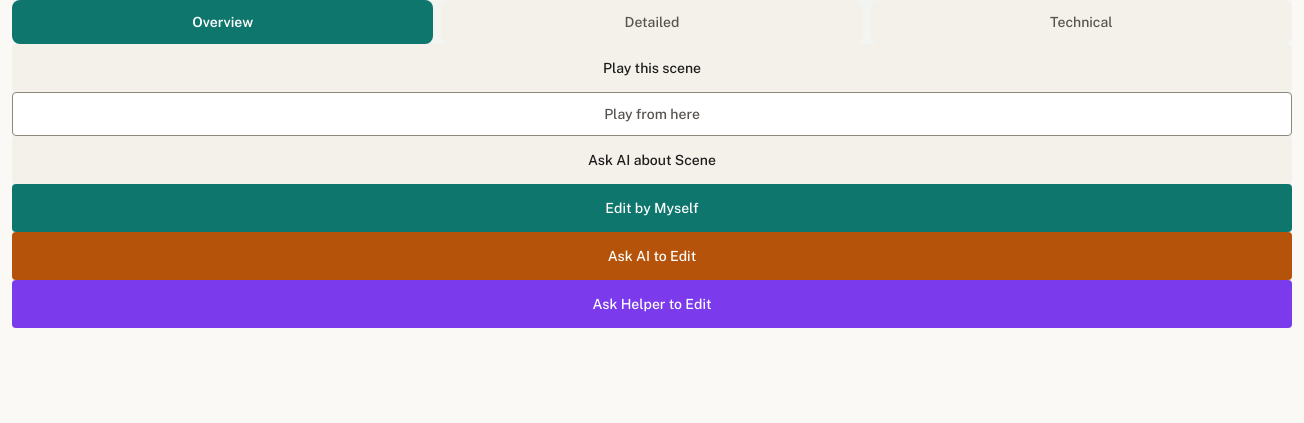
Test: SceneActions — voice input present in every composer › the Ask-AI-to-Edit composer renders a mic (voice input) button
Click the button "Ask AI to Edit" at (652, 256), box [12,232,1292,280]
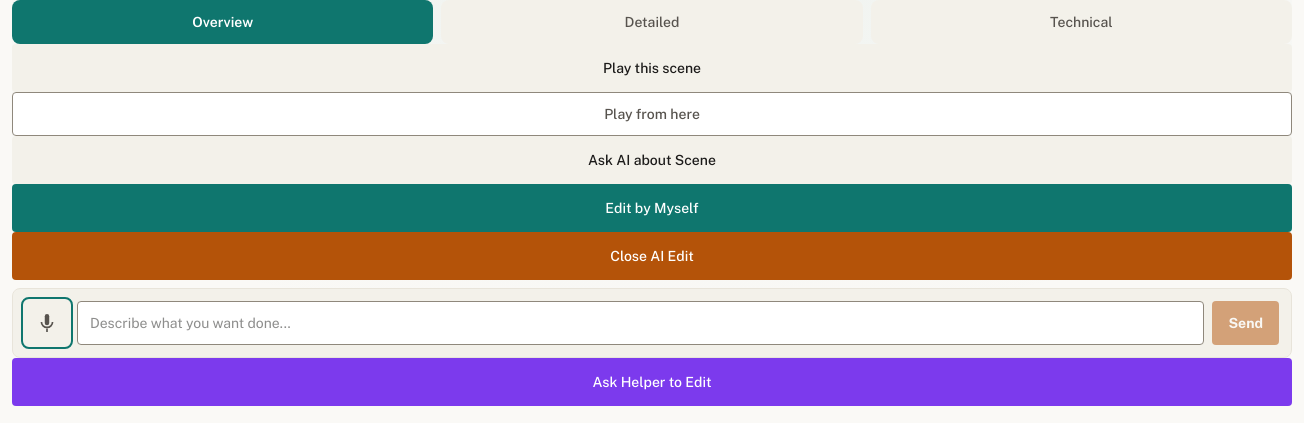
Now the button named "voice input" is shown, box [25,301,69,345]
